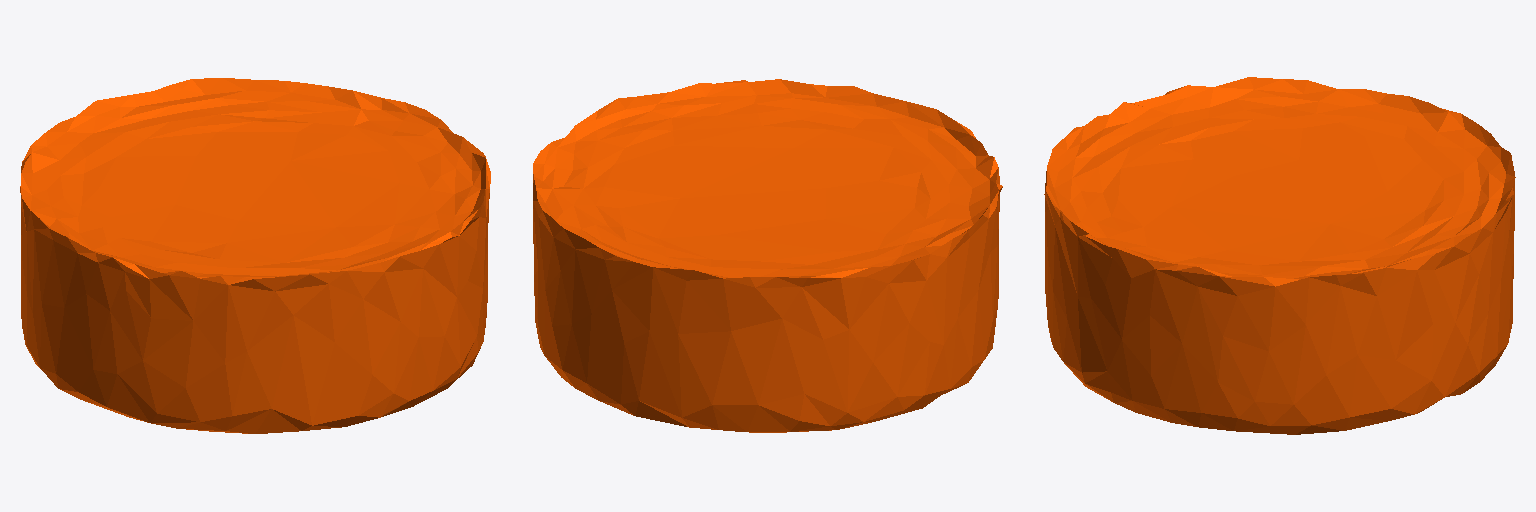
The robot description file, URDF, robot "007_tuna_fish_can":
<?xml version="1.0" ?>
<robot name="007_tuna_fish_can">
   <material name="obj_color">
      <color rgba="1.0 0.423529411765 0.0392156862745 1.0"/>
   </material>
   <link name="top">
      <inertial>
         <origin rpy="0.0001280168133086249 0.0001284018904889692 0.0002245356464677361" xyz="0.0001231831936793813 -0.0001782470580857381 -0.004632838906303415"/>
         <mass value="0.24875"/>
         <inertia ixx="0.0001280236168913521" ixy="5.056488333472358e-08" ixz="6.136452729725797e-08" iyy="0.0001283951393698871" iyz="-3.598728275287203e-08" izz="0.000224535594004091"/>
      </inertial>
      <visual>
         <origin rpy="0 0 0" xyz="0 0 0"/>
         <geometry>
            <mesh filename="top_watertight_tiny.stl" scale="1 1 1"/>
         </geometry>
         <material name="obj_color"/>
      </visual>
      <collision>
         <origin rpy="0 0 0" xyz="0 0 0"/>
         <geometry>
            <mesh filename="top_watertight_tiny.obj" scale="1 1 1"/>
         </geometry>
      </collision>
   </link>
   <link name="bottom">
      <inertial>
         <origin rpy="1.633333333199431e-08 1.633333333199431e-08 1.633333333362855e-08" xyz="0.3464080000000008 0.3464080000000008 0.3464080000000008"/>
         <mass value="0.0009800000000000017"/>
         <inertia ixx="1.633333333253906e-08" ixy="5.447480642029219e-19" ixz="5.447480642029219e-19" iyy="1.633333333253906e-08" iyz="5.447480642029219e-19" izz="1.633333333253906e-08"/>
      </inertial>
      <visual>
         <origin rpy="0 0 0" xyz="0 0 0"/>
         <geometry>
            <mesh filename="bottom_watertight_tiny.stl" scale="1 1 1"/>
         </geometry>
         <material name="obj_color"/>
      </visual>
   </link>
   <joint name="rotation" type="revolute">
      <origin xyz="0 0 0"/>
      <axis xyz="0 0 -1"/>
      <parent link="bottom"/>
      <child link="top"/>
      <dynamics damping="1.0" friction="1.0"/>
      <limit effort="0.1" velocity="0.1" lower="0" upper="0.001"/>
   </joint>
</robot>

--- Render facts (derived) ---
Views: 3 orthographic renders of the robot side by side, from view 1: azimuth 30°, elevation 25°; view 2: azimuth 150°, elevation 25°; view 3: azimuth 270°, elevation 25°.
Robot: 007_tuna_fish_can — 2 links, 1 joints (1 revolute); root link bottom; default pose: every joint at zero.
Links seen in each view (by area): view 1: top; view 2: top; view 3: top.
Boxes of the visible links, x1=… form: top: x1=20, y1=78, x2=490, y2=433; top: x1=533, y1=79, x2=1002, y2=432; top: x1=1044, y1=77, x2=1515, y2=434.
Size in the robot's own frame: 0.0844 by 0.0844 by 0.0333 metres.
1 mesh visuals loaded from 2 distinct referenced files (1 binary STL); not drawn: 1 (reference not matched to a file when rendering).